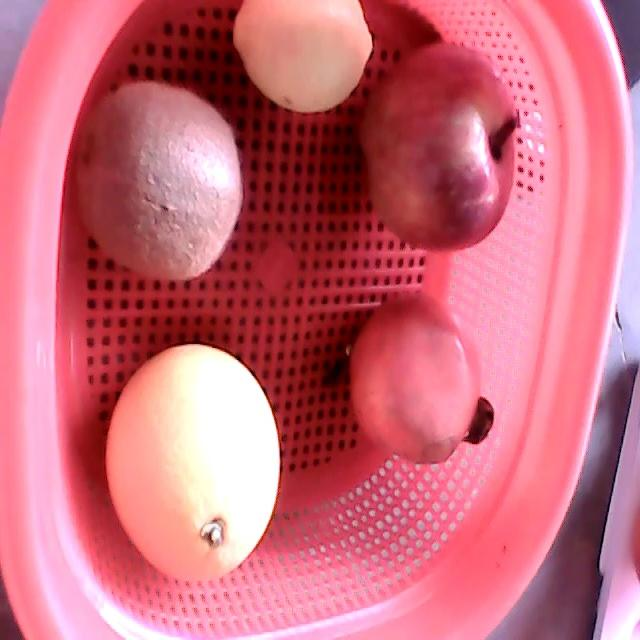apple: (357, 41, 518, 255)
kiwi: (70, 80, 244, 282)
lemon: (233, 0, 374, 113)
orange: (105, 342, 281, 583)
pomegranate: (347, 289, 495, 464)
